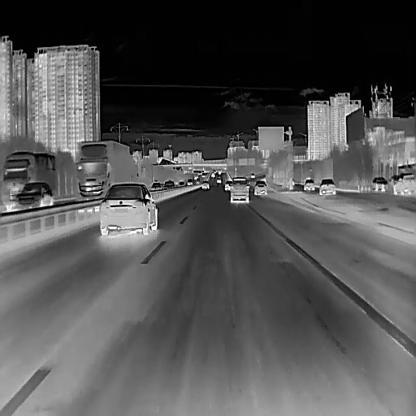car: (74, 140, 129, 201), (99, 183, 157, 235), (3, 151, 55, 203), (16, 182, 53, 207), (230, 176, 249, 204), (394, 173, 416, 194), (319, 178, 336, 194), (372, 176, 387, 191), (254, 180, 267, 195), (303, 179, 315, 190), (151, 181, 165, 189), (164, 179, 175, 188), (224, 180, 232, 190), (202, 181, 209, 189), (187, 177, 193, 185), (178, 181, 185, 186), (216, 176, 221, 182), (250, 172, 255, 177), (211, 172, 215, 177), (202, 173, 205, 177)
